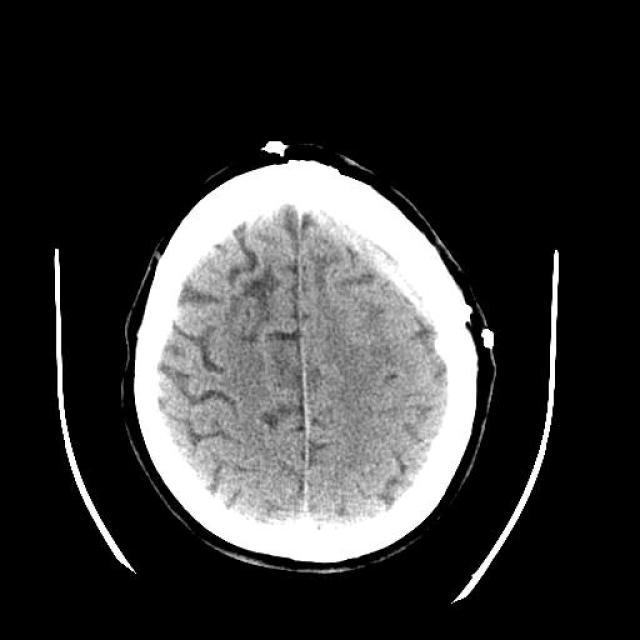Subdural: (309, 202, 446, 350)
